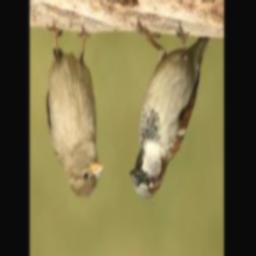Sparrow: (130, 23, 212, 199), (46, 21, 105, 198)
